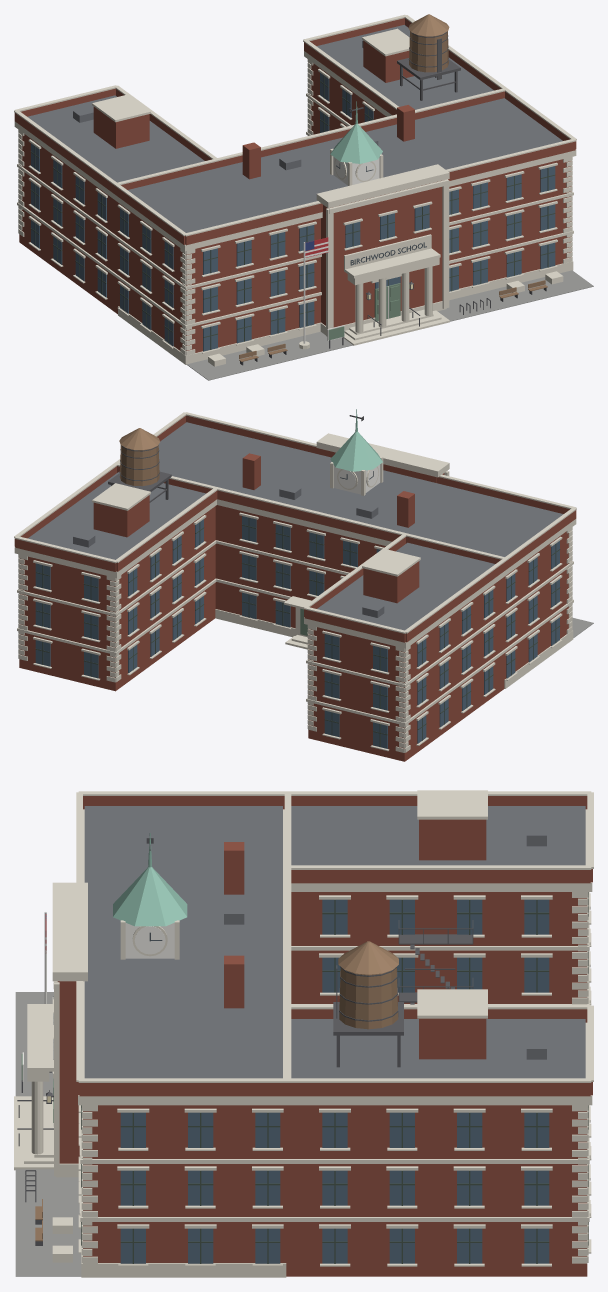
File: birchwood_main.glb
3 views of the same model, one above another, from view 1: azimuth 30°, elevation 25°; view 2: azimuth 150°, elevation 25°; view 3: azimuth 270°, elevation 25° (orthographic). The views are drawn at different scales.
Parts seen in each view (by area): view 1: birchwood_main_export; view 2: birchwood_main_export; view 3: birchwood_main_export.
Part boxes in pixels (x1,y1,x2,y2): birchwood_main_export: (14, 14, 593, 380); birchwood_main_export: (14, 409, 593, 761); birchwood_main_export: (14, 790, 593, 1277).
Size of the model in its own units: 40.8 by 19.8 by 34.5.
